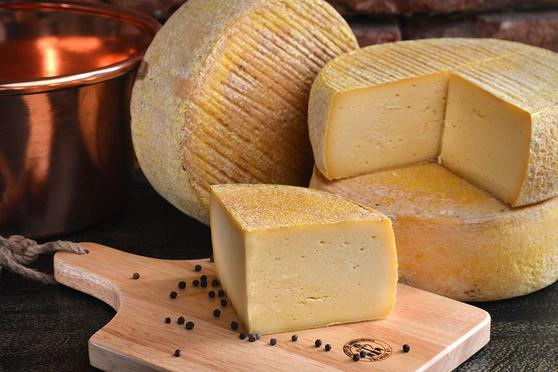cheese: (212, 183, 398, 336)
